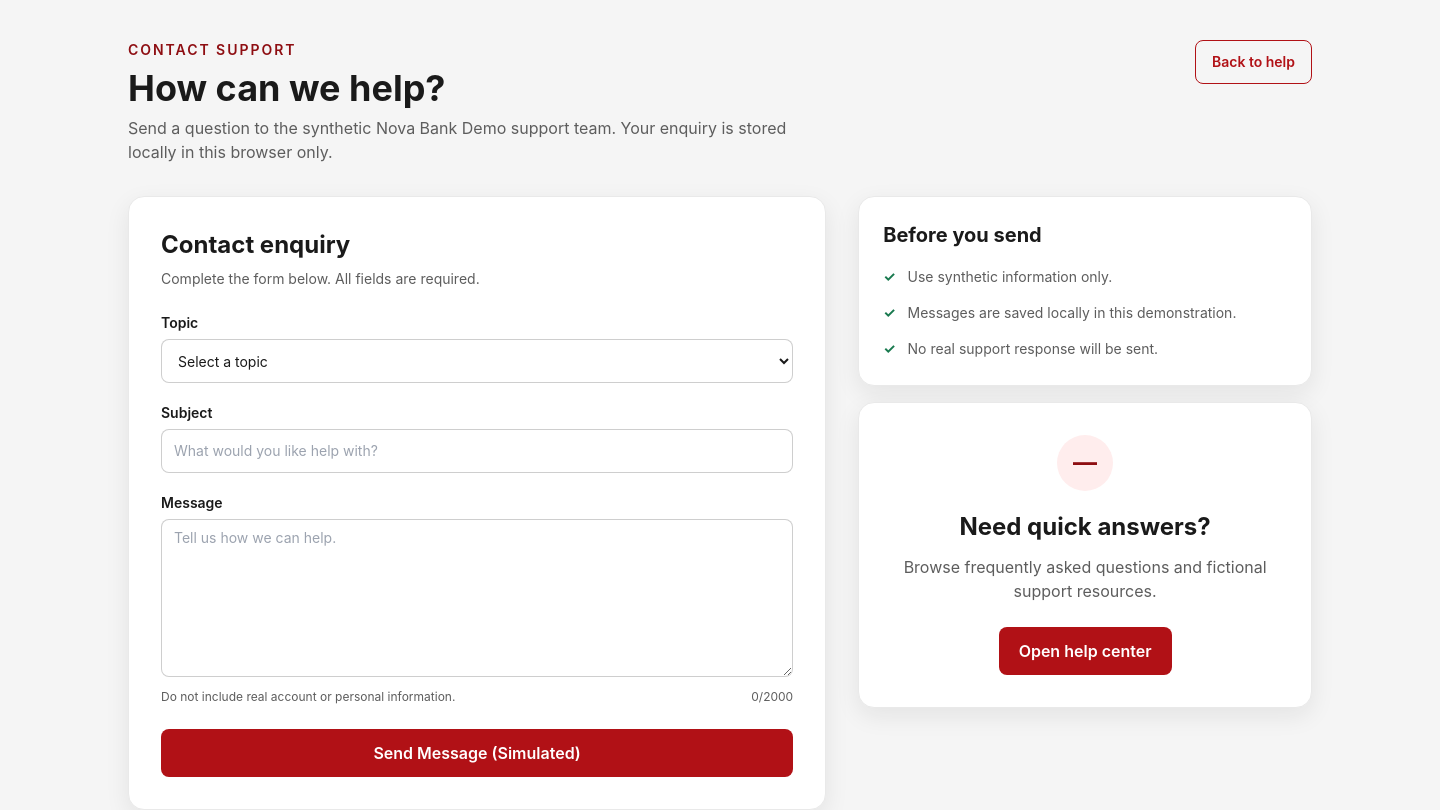
Test case: ContactPage › submits a valid enquiry locally and shows confirmation #NB-99214
Select "Transactions" in the dropdown labelled "Topic" at (477, 361), box left=161, top=339, right=793, bottom=383
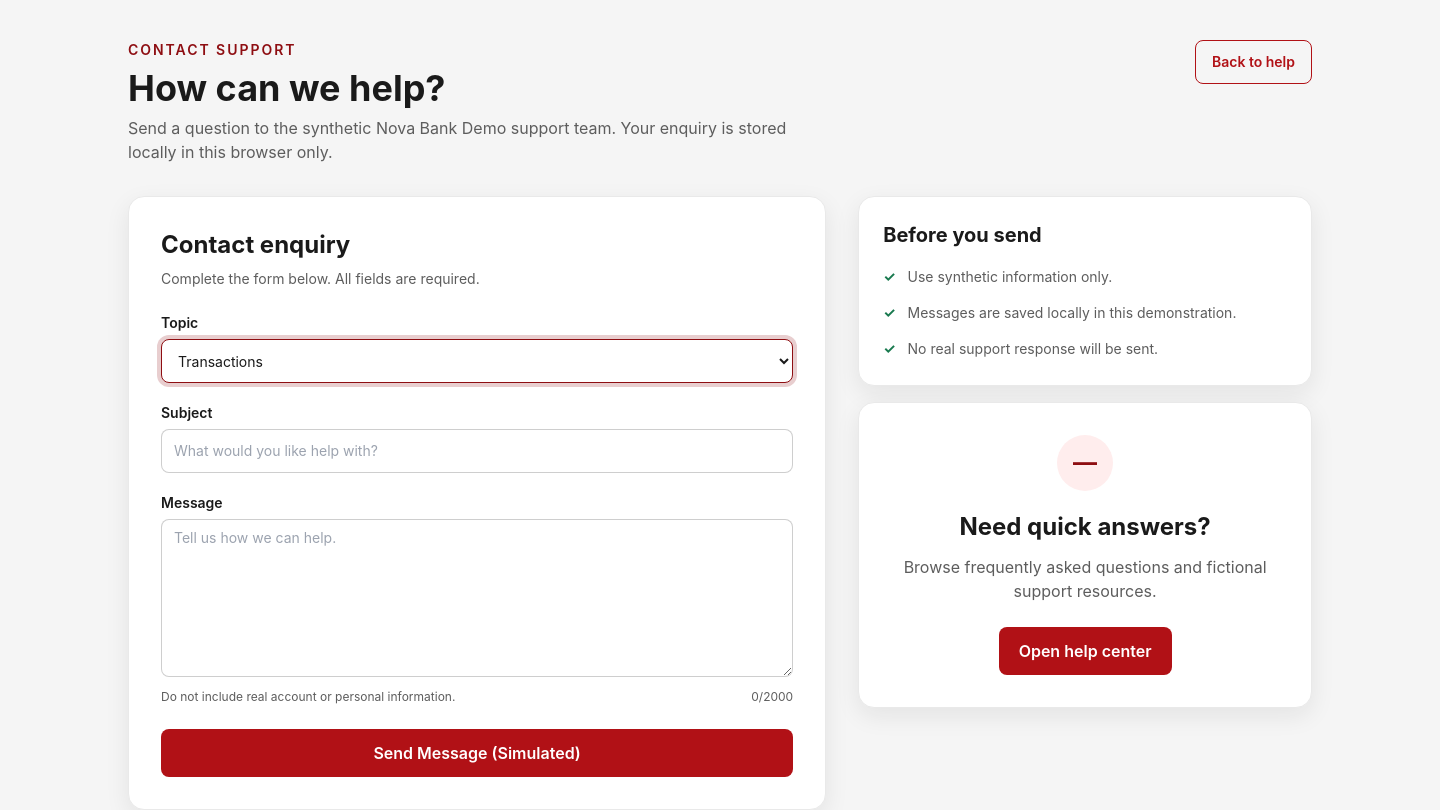
Type "Question about a transaction" into the field labelled "Subject" at (477, 451), box left=161, top=429, right=793, bottom=473
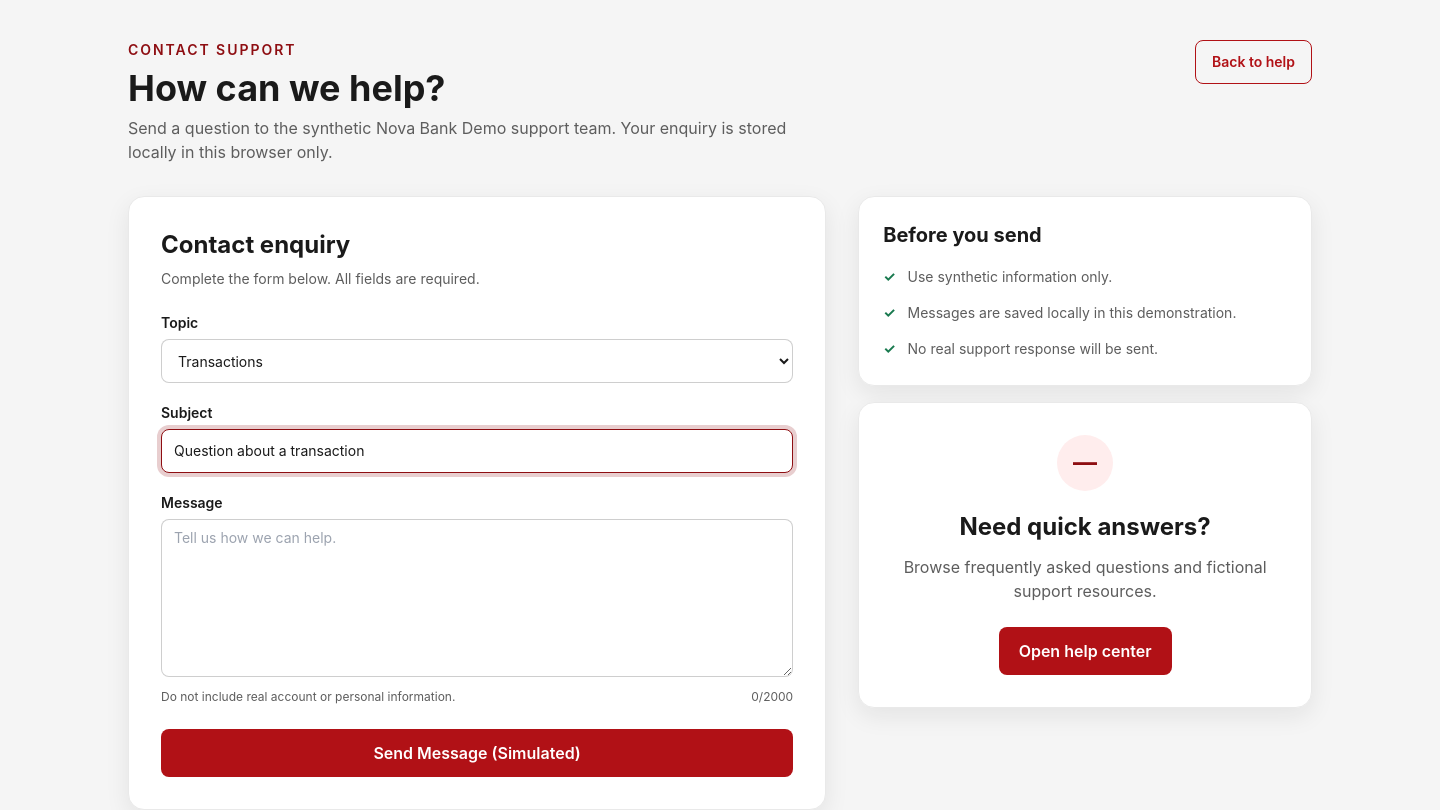
Type "Please explain this synthetic transaction." into the text box labelled "Message" at (477, 598), box left=161, top=519, right=793, bottom=677
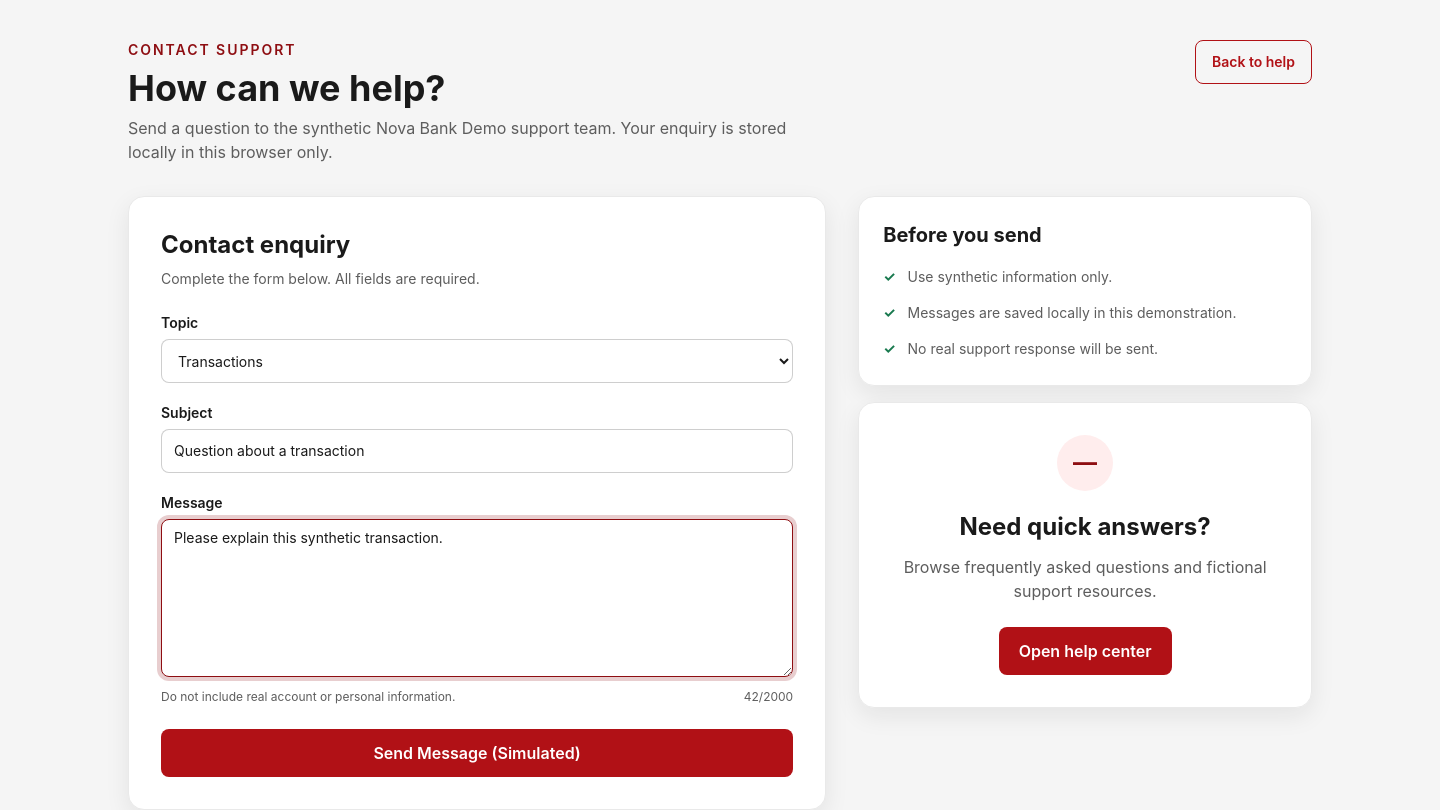
Click the button "Send Message (Simulated)" at (477, 753), box left=161, top=729, right=793, bottom=777
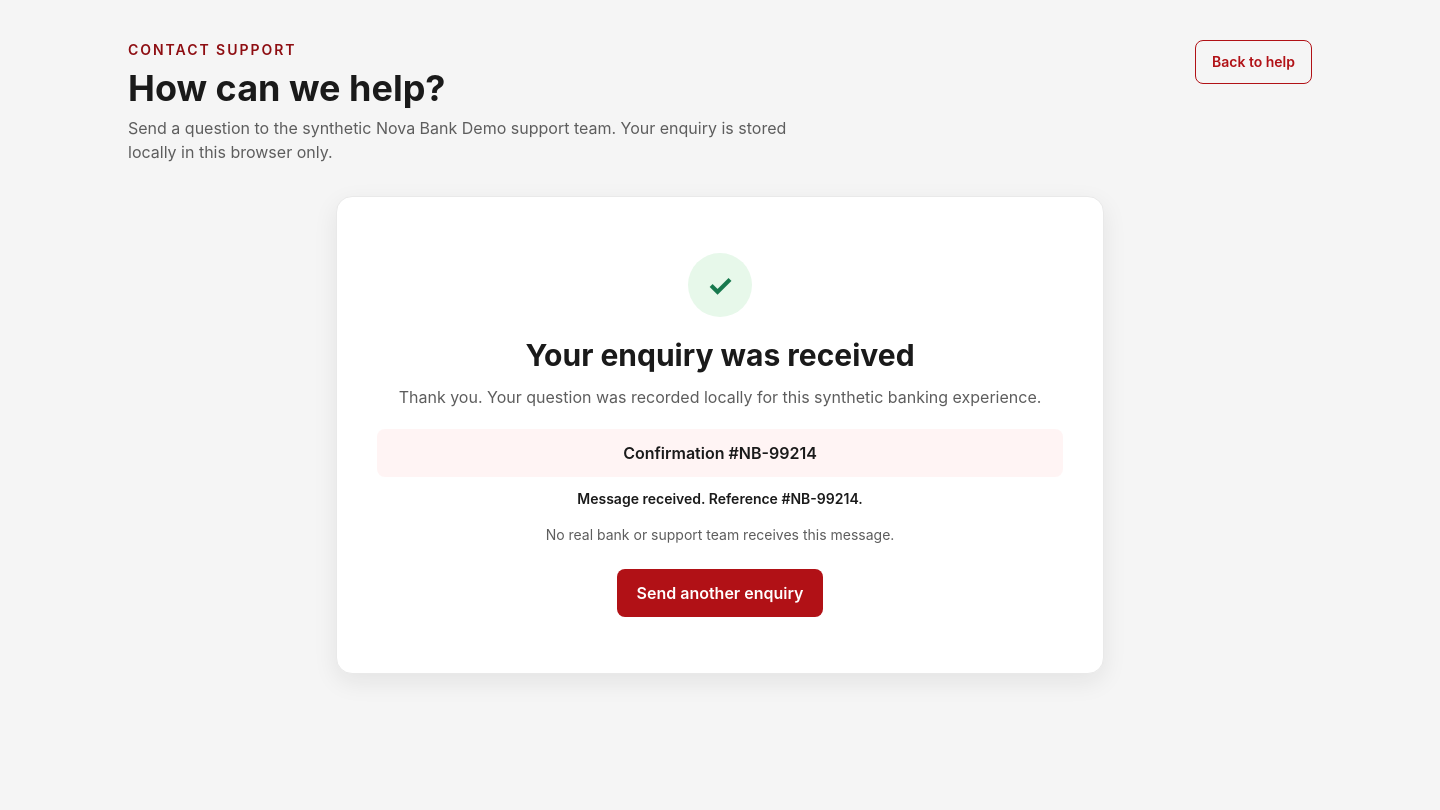
Now the heading "Your enquiry was received" is shown, box left=525, top=337, right=915, bottom=373
Now the text "Confirmation #NB-99214" is shown, box left=377, top=429, right=1063, bottom=477
Now the message shows "Your question was recorded locally for this synthetic banking experience.", box left=399, top=387, right=1041, bottom=407
